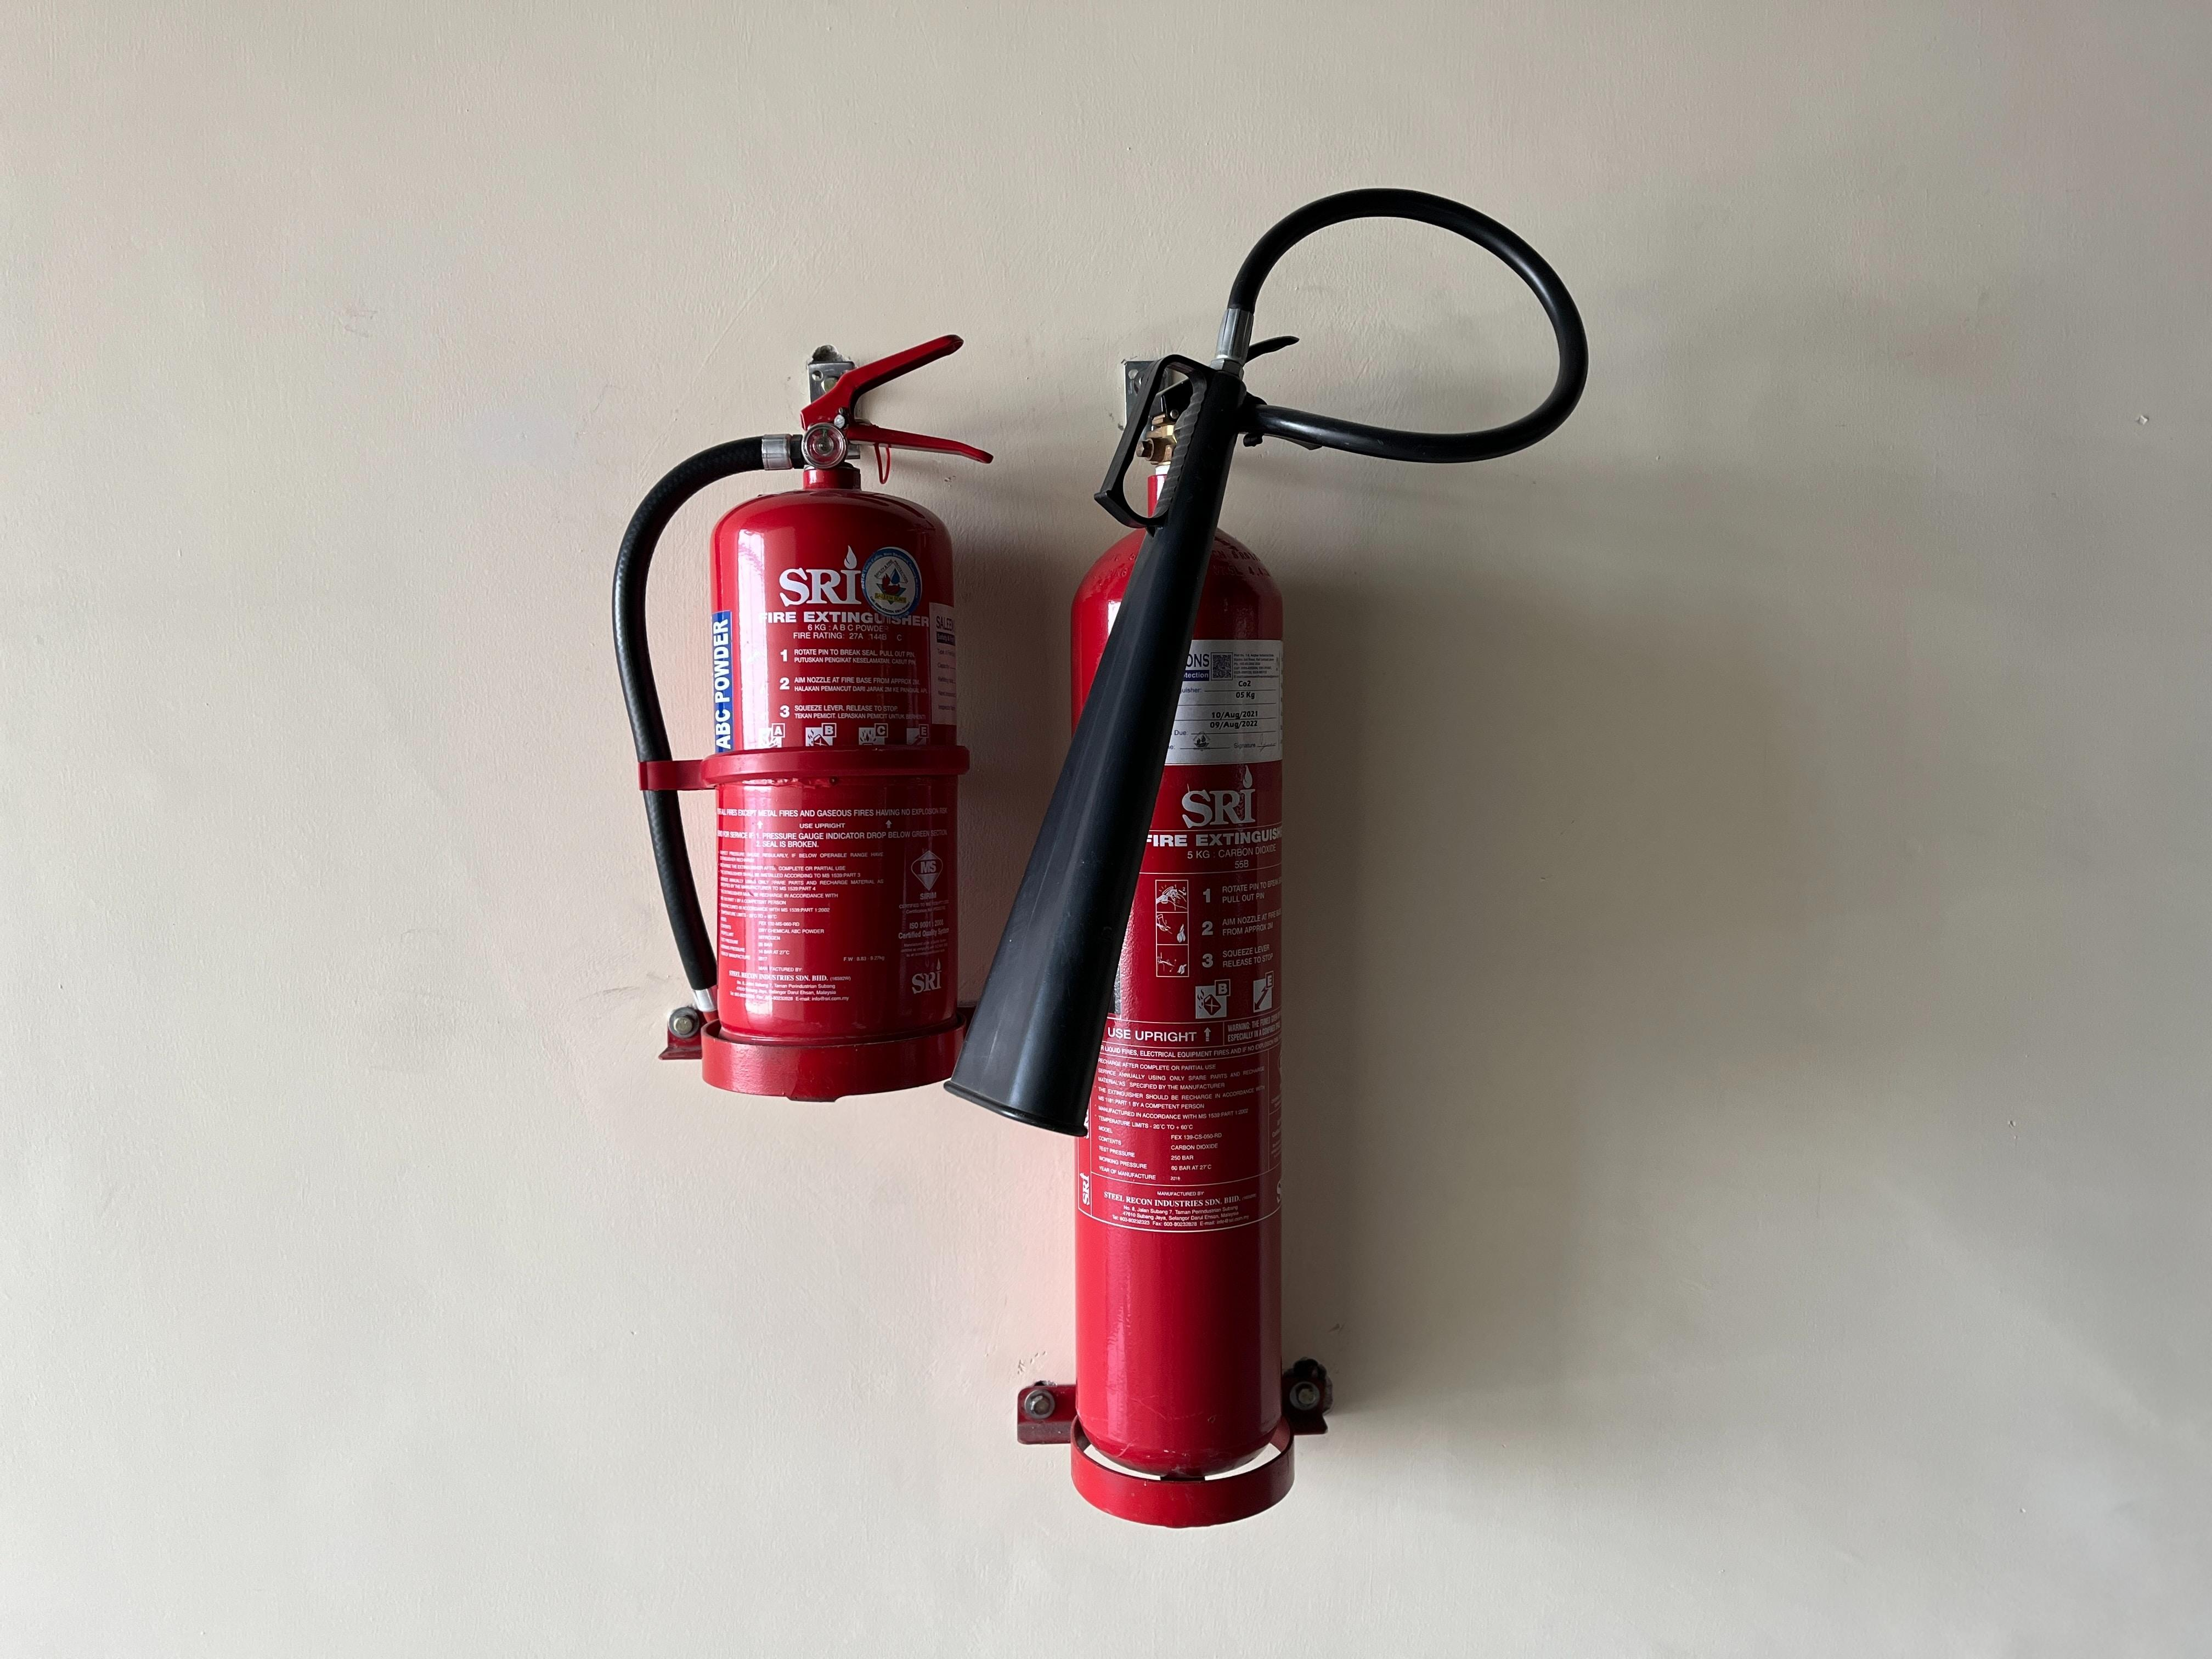Fire Extinguisher: (988, 82, 1629, 1539), (582, 301, 982, 1114)
